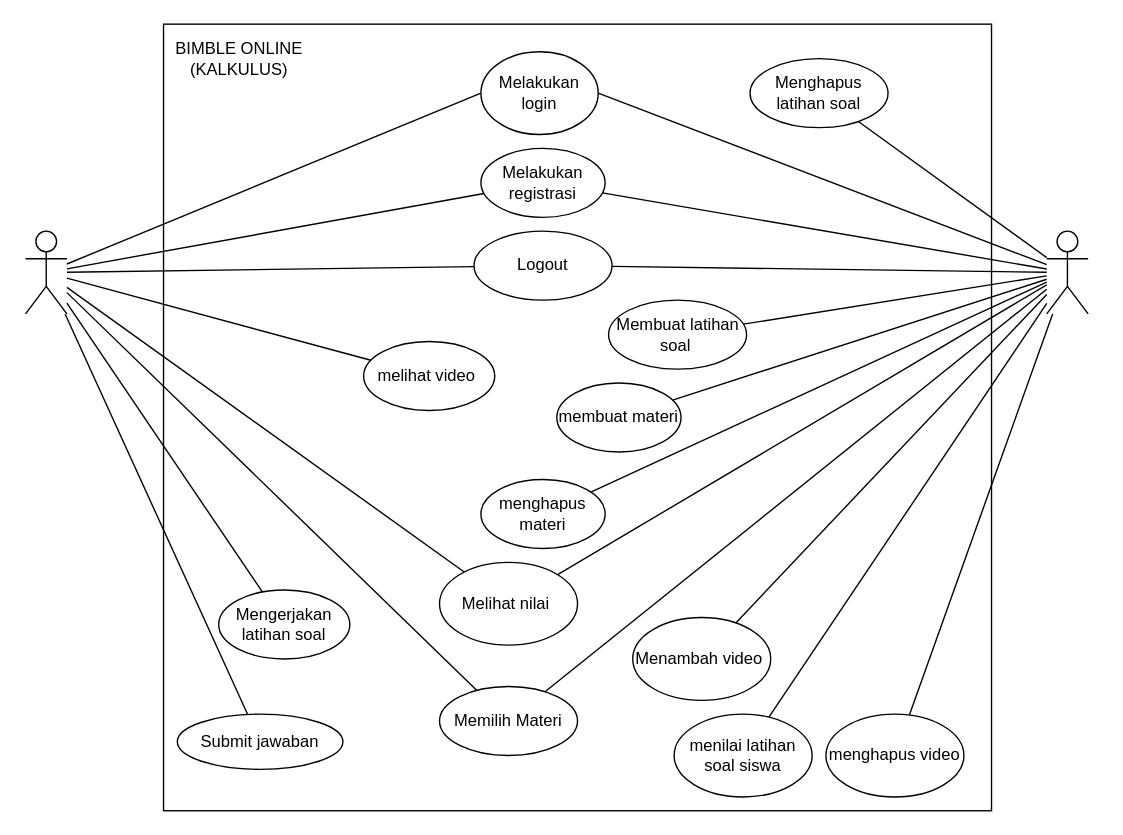
Some shapes in this 1123 by 835 pixel diagram are drawn without their labels. Each missing label, with the box of its shape:
Pengajar: (1045, 230, 1088, 314)
Siswa: (24, 230, 67, 314)
